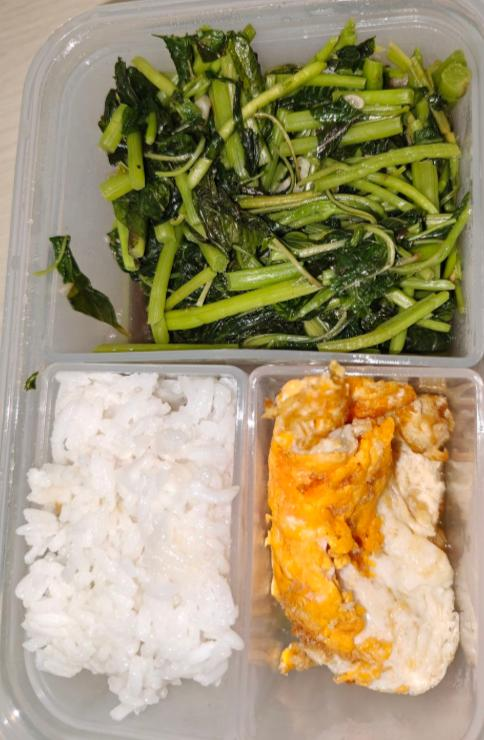buah_sayur_lainnya: (128, 74, 446, 334)
makanan_berpati: (57, 381, 214, 692)
telur: (283, 381, 454, 694)
